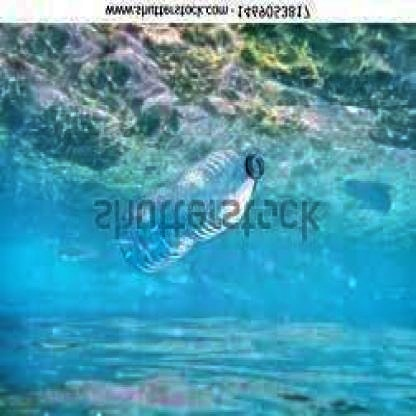pbottle: (106, 144, 269, 270)
